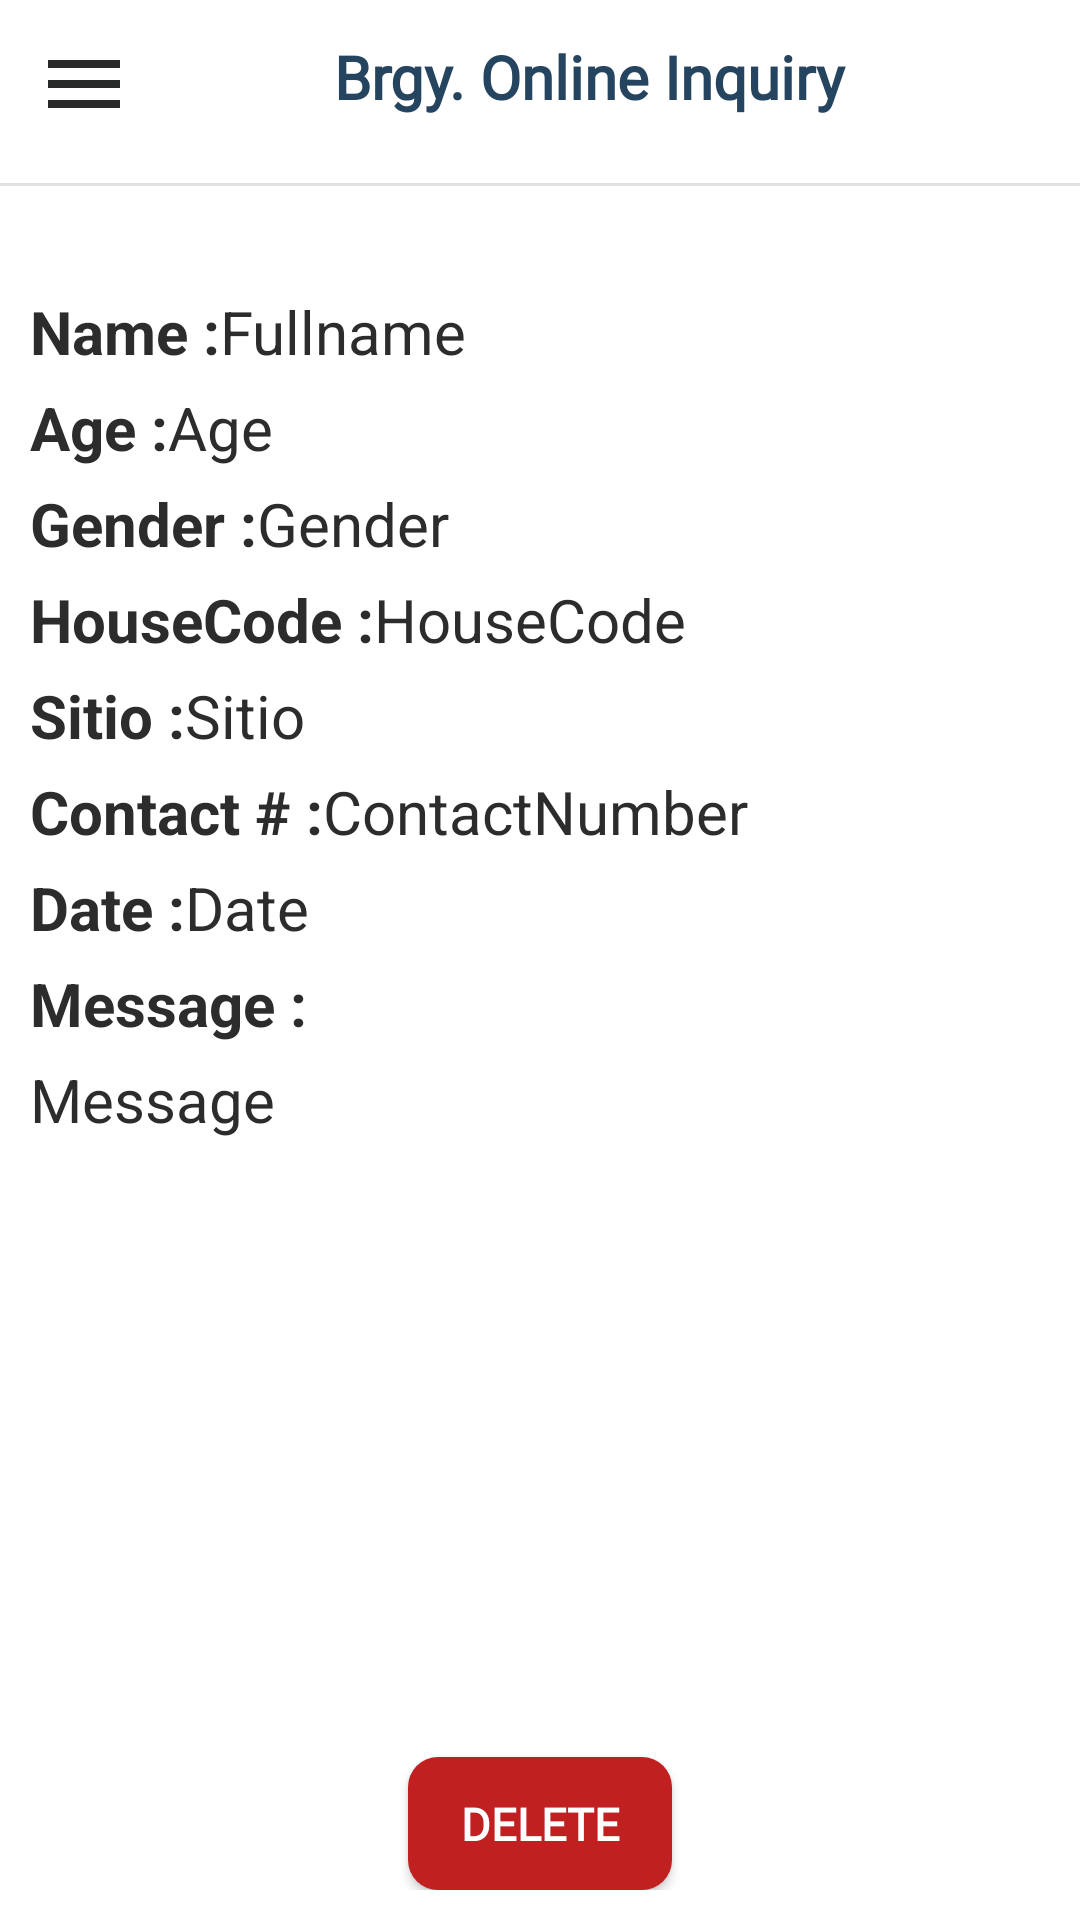

Icons on this 1080px x 1920px Android screen, each with the point to tap as (x=x, y=y):
menu: (x=84, y=84)
